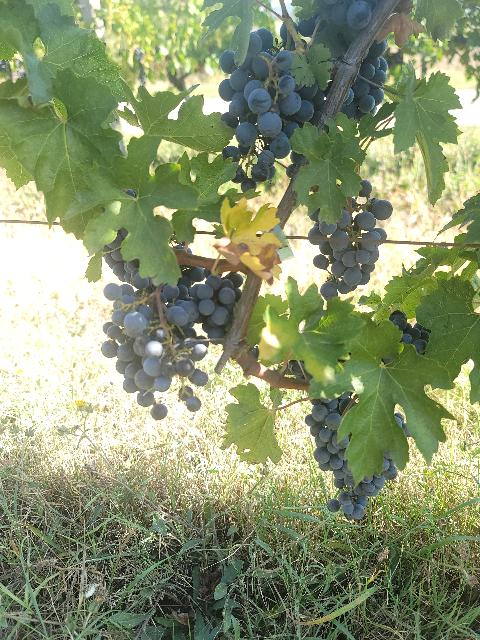grapes: (219, 29, 318, 192), (101, 274, 209, 420), (308, 181, 392, 300), (305, 392, 352, 488), (189, 272, 244, 342)
